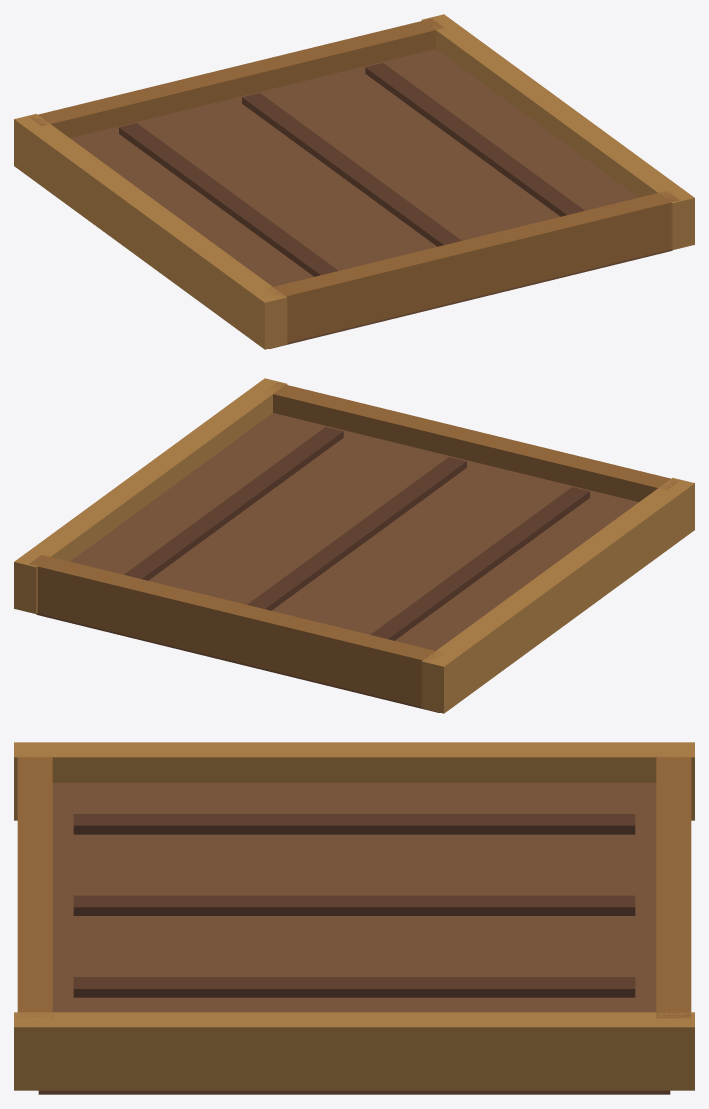
Rendered from farm-empty.gltf.
3 renders of one model, top to bottom at view 1: azimuth 30°, elevation 25°; view 2: azimuth 150°, elevation 25°; view 3: azimuth 270°, elevation 25°, orthographic. The views are drawn at different scales.
Visible parts, largest first — view 1: farm-empty; view 2: farm-empty; view 3: farm-empty.
Boxes of the visible parts, left/top/right/bottom form: farm-empty: left=14, top=14, right=694, bottom=349; farm-empty: left=14, top=378, right=694, bottom=713; farm-empty: left=14, top=742, right=694, bottom=1094.
Bounding box in the file's own units: 1.92 × 0.24 × 1.94.
